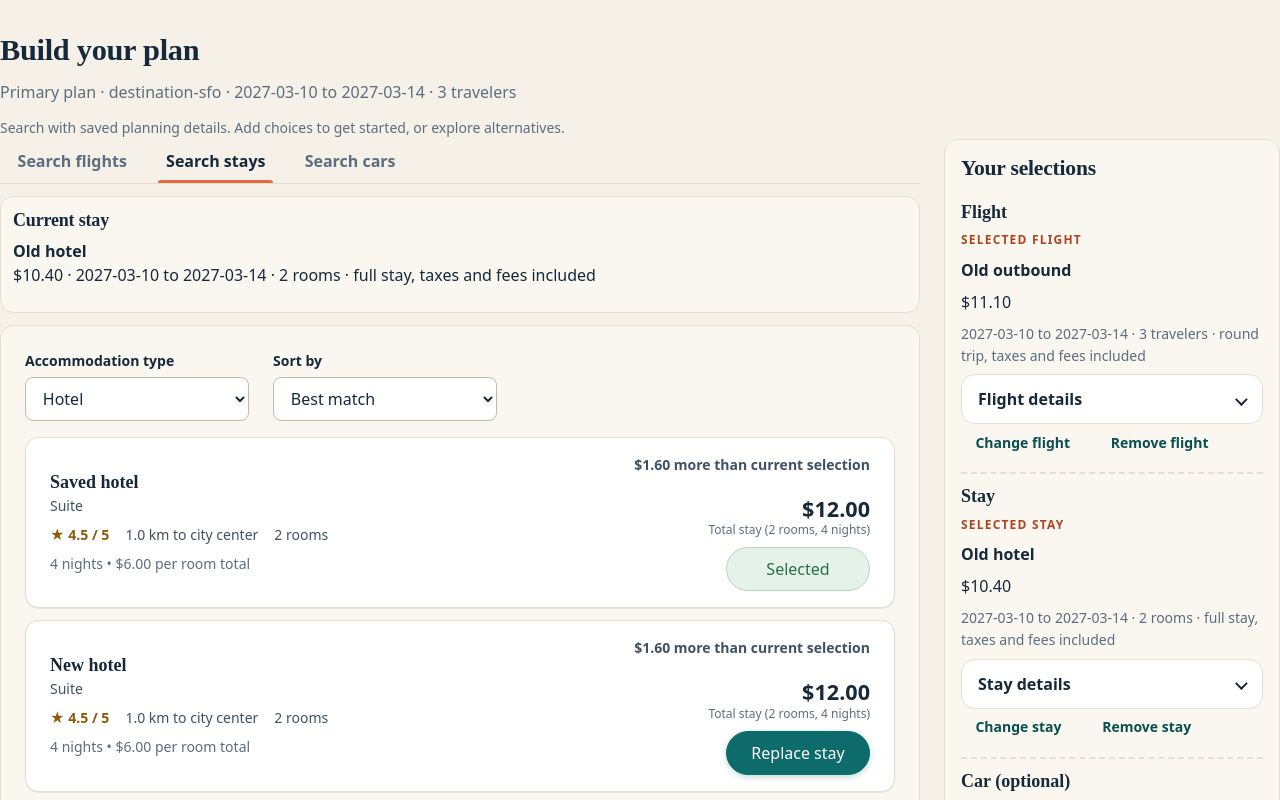
Test: selected search results first › pins saved stays while preserving alternative order after sort changes
Expected: the button "Selected" is disabled, [726, 548, 870, 592]
Expected: the element that starts with "New hotel" is shown, [50, 655, 126, 675]
Select "Lowest price" in the dropdown labelled "Sort by": [385, 399] box [273, 377, 497, 421]
(page scrolled)
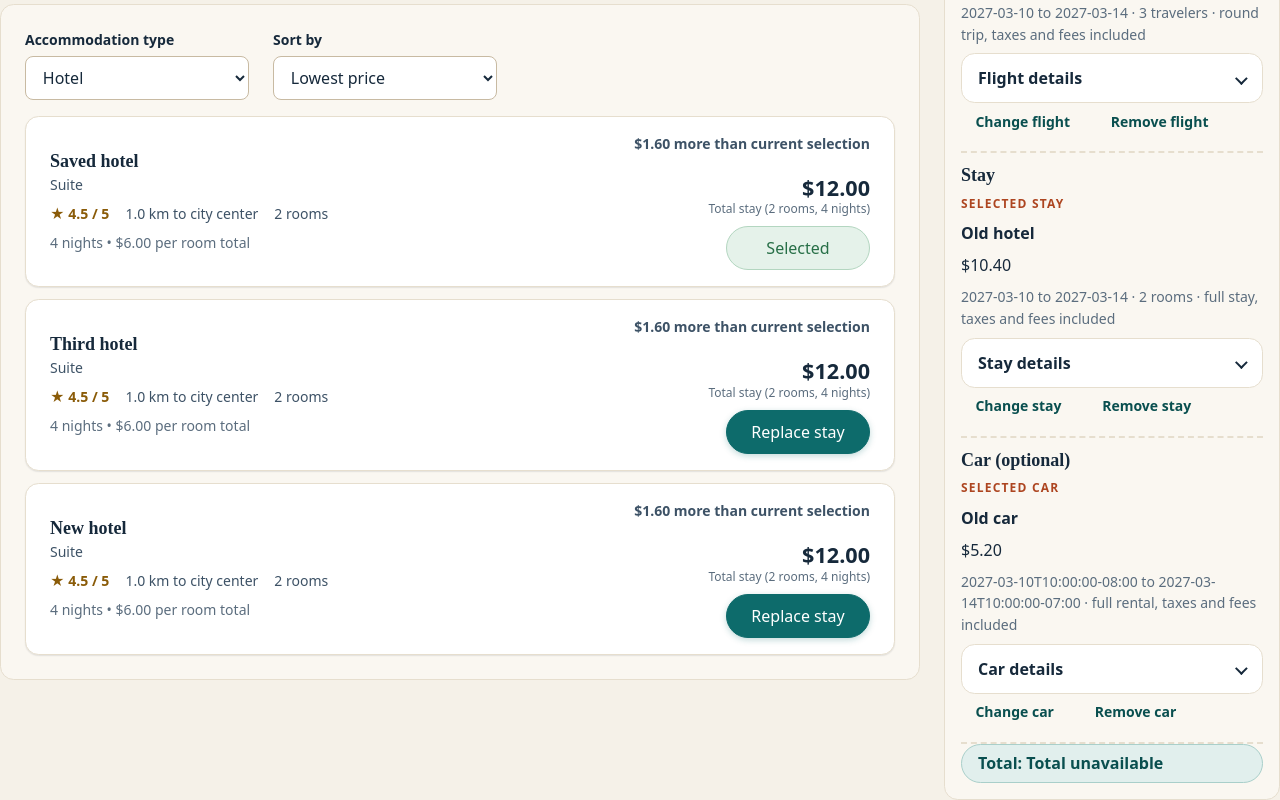
Expected: the button "Selected" is shown, [726, 226, 870, 270]
Expected: the element that starts with "Third hotel" is shown, [50, 334, 138, 354]
Expected: the element that starts with "New hotel" is shown, [50, 518, 126, 538]
